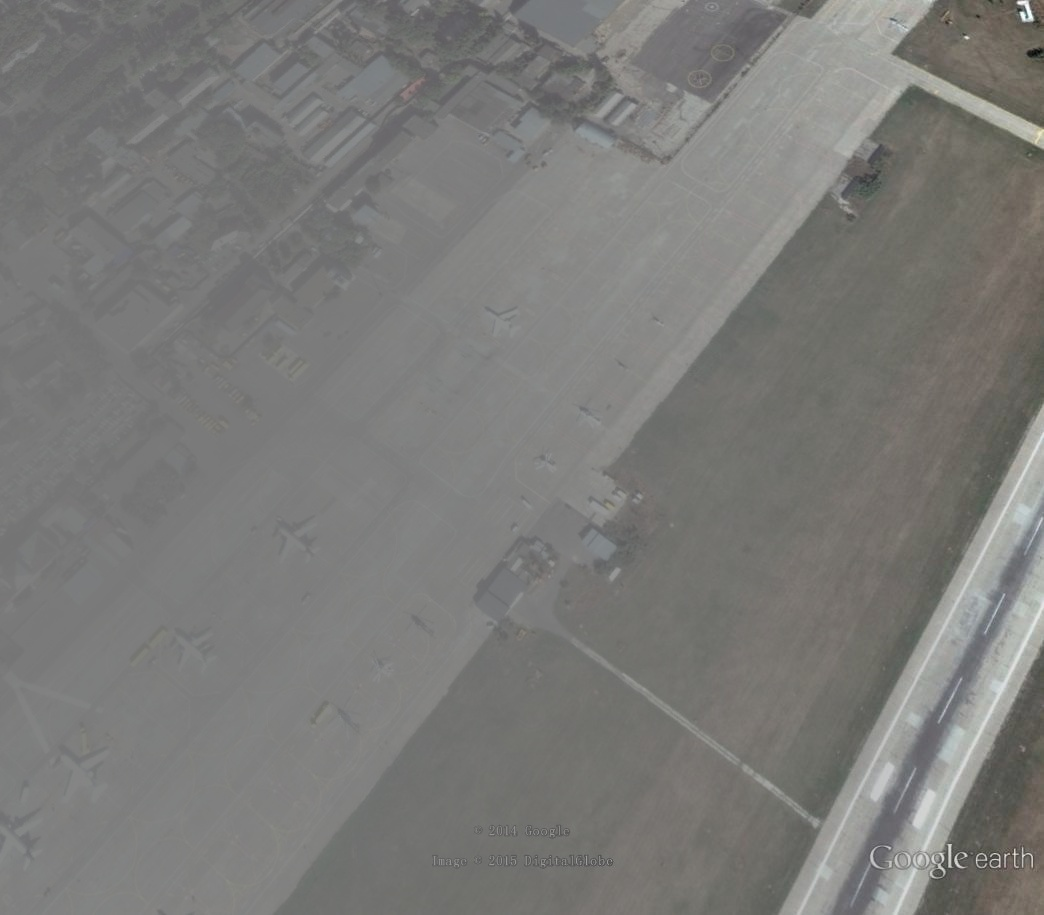aircraft: (58, 744, 114, 806), (272, 516, 321, 569), (173, 629, 217, 677), (480, 303, 526, 345), (576, 402, 607, 431), (531, 450, 560, 476), (368, 658, 397, 684), (885, 14, 915, 34)
